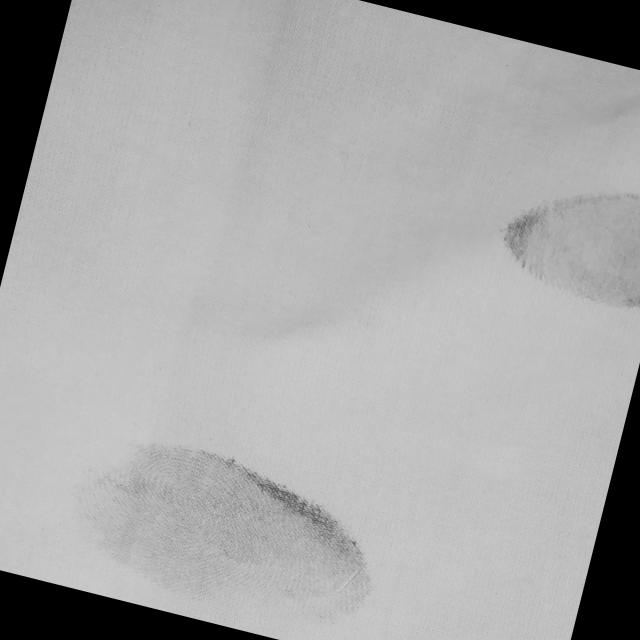Stain: (50, 417, 397, 640), (480, 160, 640, 320)
